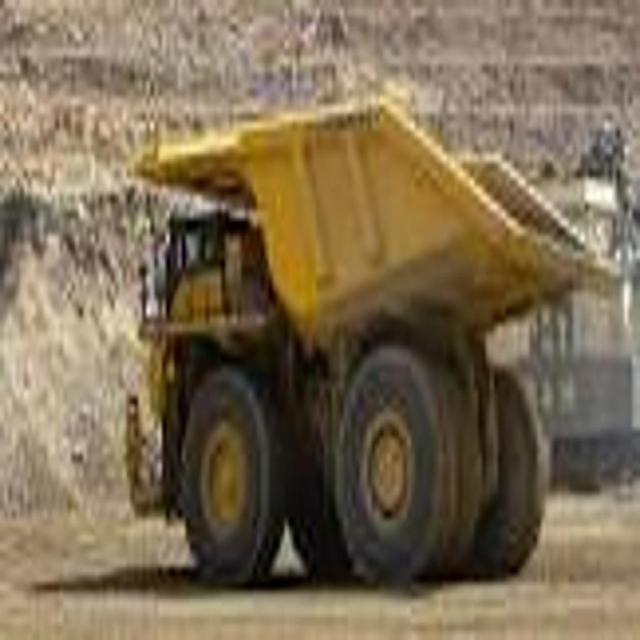dump_truck: (125, 47, 626, 579)
